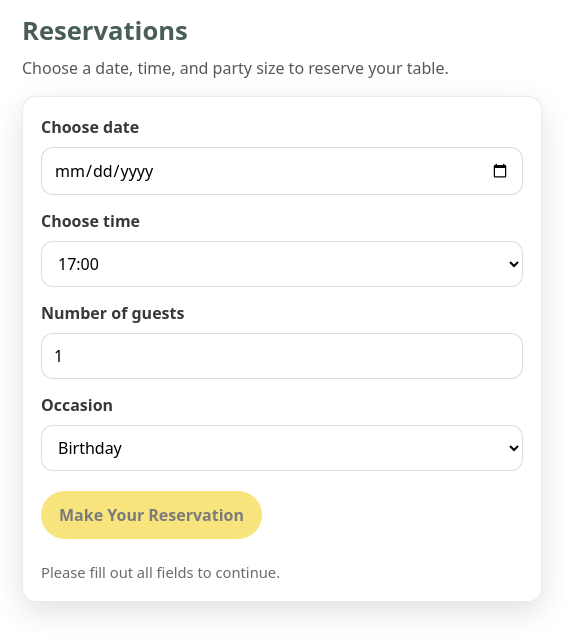
Test: BookingForm JS/React validation behavior › invalid guests disables submit (0 and 11), valid guests enables submit
expect the dropdown labelled "Choose time" shows "17:00": met, box [41,241,523,287]
In the date field labelled "Choose date": (282, 171) [41,147,523,195], type "2026-01-12"
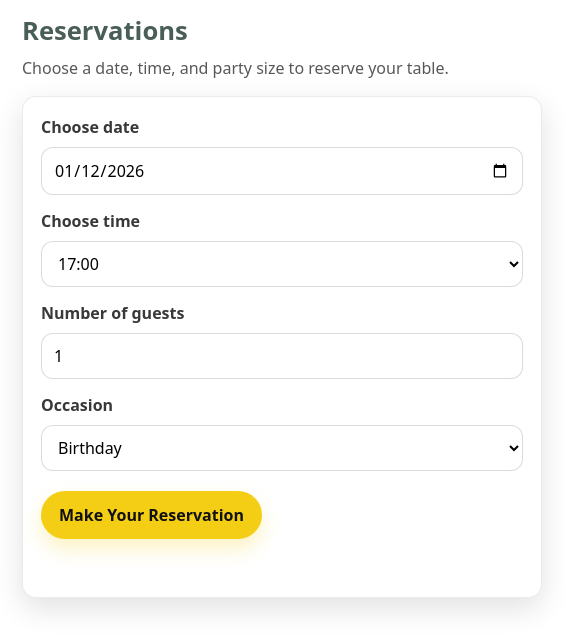
expect the button showing "make your reservation" is enabled: met, box [41,491,262,539]
Note: invalid 0
Replace the text in the number field labelled "Number of guests" with "0": (282, 356) [41,333,523,379]
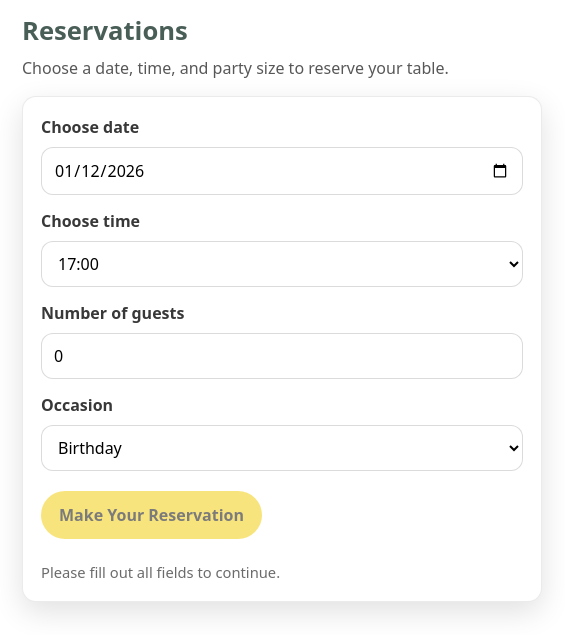
expect the button showing "make your reservation" is disabled: met, box [41,491,262,539]
Note: invalid 11
Replace the text in the number field labelled "Number of guests" with "11": (282, 356) [41,333,523,379]
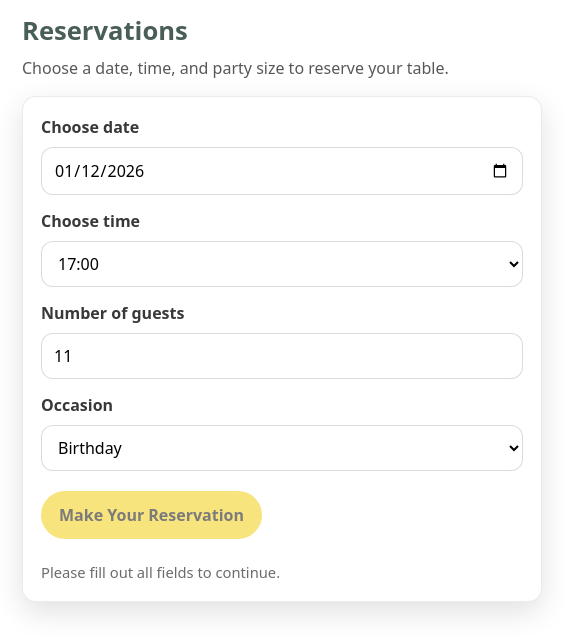
expect the button showing "make your reservation" is disabled: met, box [41,491,262,539]
Note:  valid 2
Replace the text in the number field labelled "Number of guests" with "2": (282, 356) [41,333,523,379]
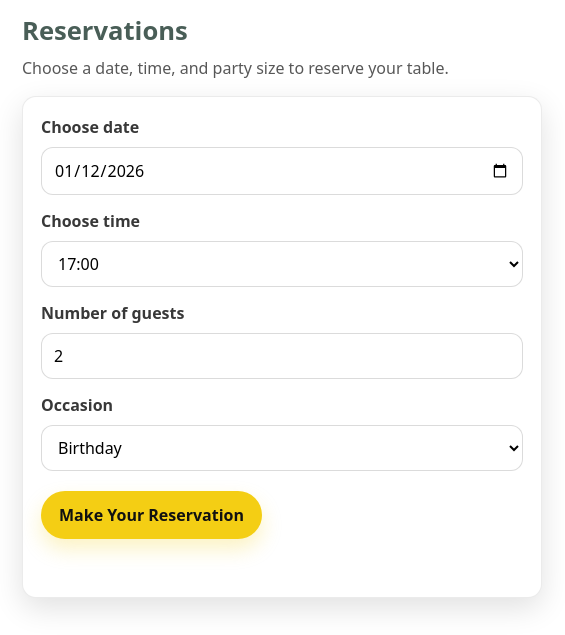
expect the button showing "make your reservation" is enabled: met, box [41,491,262,539]
